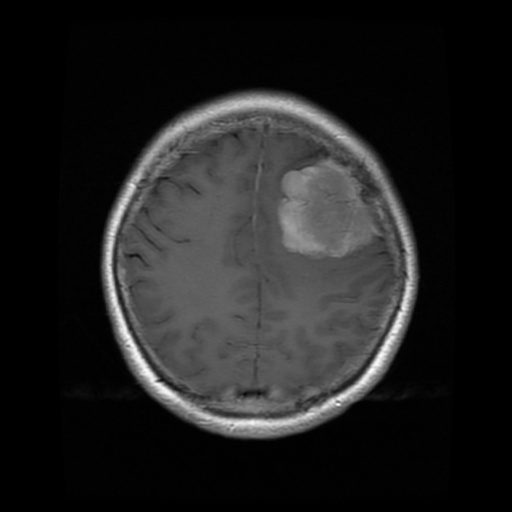meningioma: (279, 157, 379, 255)
